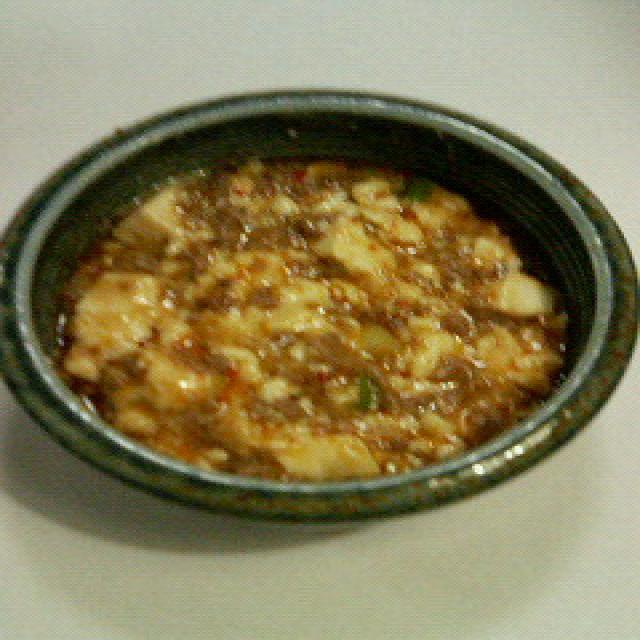豆腐料理: (0, 84, 640, 532)
